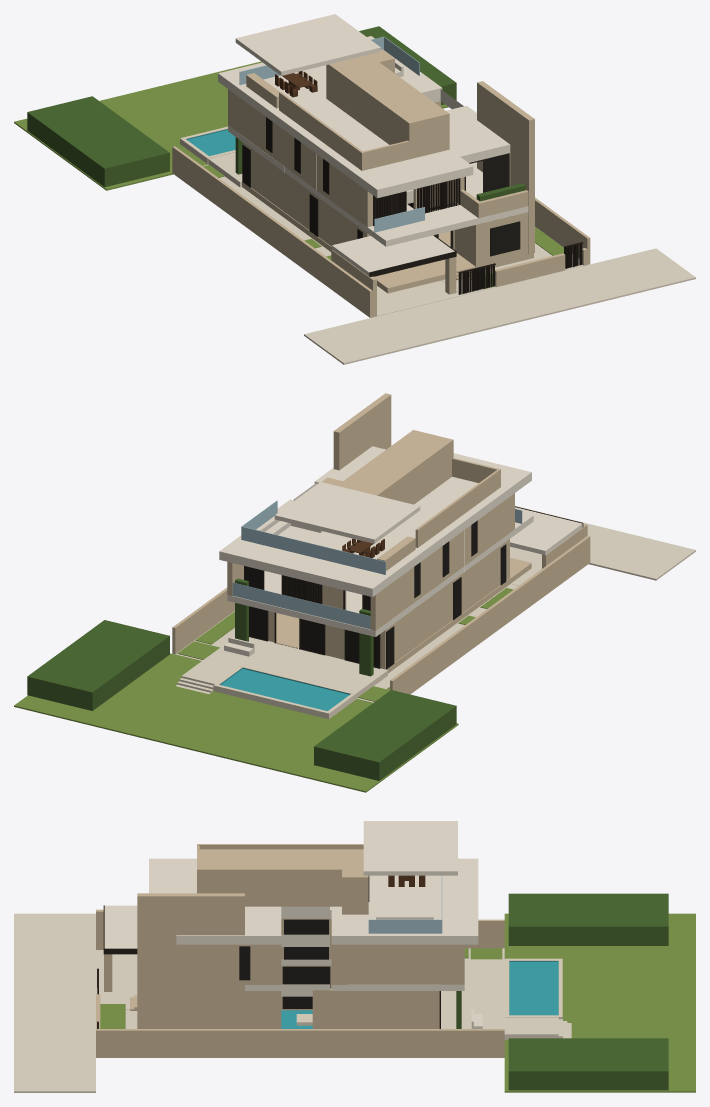
The model's file is villa_v8.glb.
3 views of the same model, one above another, from view 1: azimuth 30°, elevation 25°; view 2: azimuth 150°, elevation 25°; view 3: azimuth 270°, elevation 25° (orthographic). The views are drawn at different scales.
Visible parts, largest first — view 1: GROUND_street_verge, HEDGE_context_rear_left, RF_core, CONTEXT_lawn_beyond_plot (NOT PLOT), WALL_side_left, RF_canopy, ROOF_f, STONE_FIN (render-sourced, not on plan), ROOF_r, CARPORT_canopy (render-sourced, not on plan), GF_plinth, SLAB_FF_front_ext (+26 smaller); view 2: CONTEXT_lawn_beyond_plot (NOT PLOT), HEDGE_context_rear_right, HEDGE_context_rear_left, ROOF_r, WALL_side_left, RF_canopy, RF_core, DECK_rear_strip, GROUND_street_verge, STONE_FIN (render-sourced, not on plan), ROOF_f, POOL_water (v3 9.50 x 3.60) (+26 smaller); view 3: CONTEXT_lawn_beyond_plot (NOT PLOT), GROUND_street_verge, WALL_side_right, STONE_FIN (render-sourced, not on plan), HEDGE_context_rear_left, HEDGE_context_rear_right, RF_core, ROOF_r, RF_canopy, FF_rear, FF_front, GF_rear (+22 smaller).
Boxes of the visible parts, x1=… form: GROUND_street_verge: x1=304, y1=248, x2=695, y2=364; HEDGE_context_rear_left: x1=27, y1=96, x2=169, y2=187; RF_core: x1=326, y1=54, x2=449, y2=159; CONTEXT_lawn_beyond_plot (NOT PLOT): x1=14, y1=61, x2=448, y2=190; WALL_side_left: x1=172, y1=146, x2=372, y2=317; RF_canopy: x1=235, y1=14, x2=380, y2=75; ROOF_f: x1=313, y1=129, x2=473, y2=198; STONE_FIN (render-sourced, not on plan): x1=477, y1=81, x2=534, y2=254; ROOF_r: x1=218, y1=36, x2=442, y2=133; CARPORT_canopy (render-sourced, not on plan): x1=332, y1=235, x2=454, y2=276; GF_plinth: x1=242, y1=182, x2=533, y2=293; SLAB_FF_front_ext: x1=368, y1=205, x2=528, y2=246; CONTEXT_lawn_beyond_plot (NOT PLOT): x1=14, y1=653, x2=458, y2=792; HEDGE_context_rear_right: x1=27, y1=620, x2=169, y2=710; HEDGE_context_rear_left: x1=314, y1=690, x2=456, y2=780; ROOF_r: x1=219, y1=499, x2=443, y2=596; WALL_side_left: x1=390, y1=535, x2=590, y2=694; RF_canopy: x1=274, y1=482, x2=420, y2=543; RF_core: x1=337, y1=430, x2=453, y2=504; DECK_rear_strip: x1=208, y1=637, x2=387, y2=697; GROUND_street_verge: x1=515, y1=506, x2=695, y2=580; STONE_FIN (render-sourced, not on plan): x1=333, y1=393, x2=391, y2=470; ROOF_f: x1=414, y1=453, x2=531, y2=526; POOL_water (v3 9.50 x 3.60): x1=221, y1=668, x2=349, y2=710; CONTEXT_lawn_beyond_plot (NOT PLOT): x1=504, y1=913, x2=695, y2=1092; GROUND_street_verge: x1=14, y1=913, x2=95, y2=1092; WALL_side_right: x1=96, y1=1029, x2=504, y2=1057; STONE_FIN (render-sourced, not on plan): x1=137, y1=893, x2=244, y2=1028; HEDGE_context_rear_left: x1=508, y1=893, x2=668, y2=945; HEDGE_context_rear_right: x1=508, y1=1038, x2=668, y2=1090; RF_core: x1=197, y1=849, x2=363, y2=906; ROOF_r: x1=331, y1=858, x2=478, y2=944; RF_canopy: x1=363, y1=821, x2=457, y2=875; FF_rear: x1=331, y1=944, x2=439, y2=984; FF_front: x1=184, y1=944, x2=281, y2=984; GF_rear: x1=347, y1=991, x2=439, y2=1028.
Size of what is drawn, in the model's own units: 30.73 by 13.05 by 49.89.
